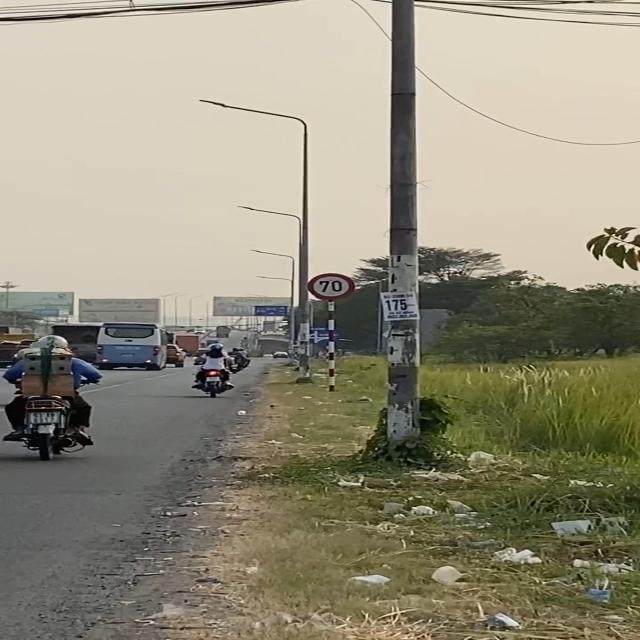127-toc-do-toi-da-70: (308, 272, 356, 300)
